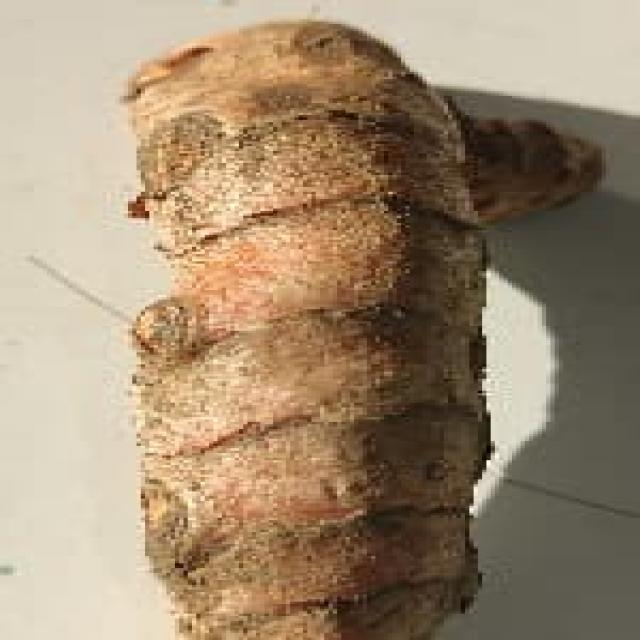ginger: (137, 24, 580, 640)
